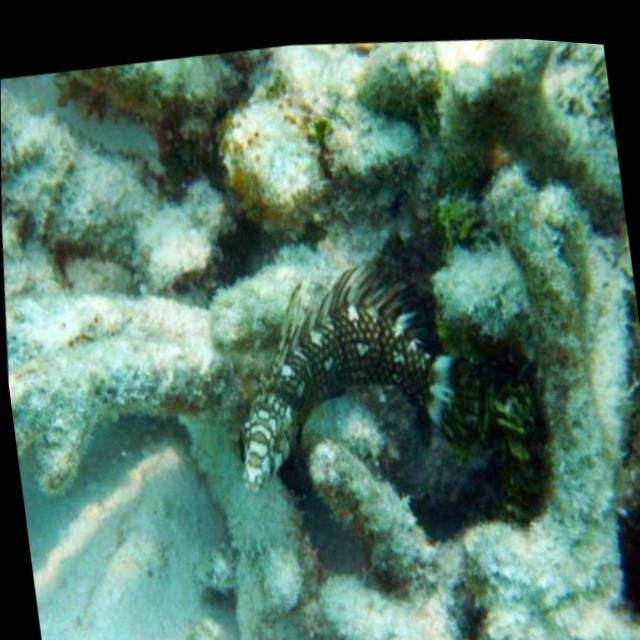Dead Coral: (0, 0, 634, 354), (426, 229, 640, 640), (174, 445, 490, 640), (2, 260, 233, 516)
